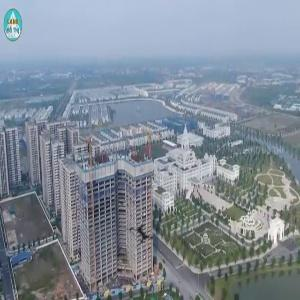drone: (113, 207, 170, 264)
